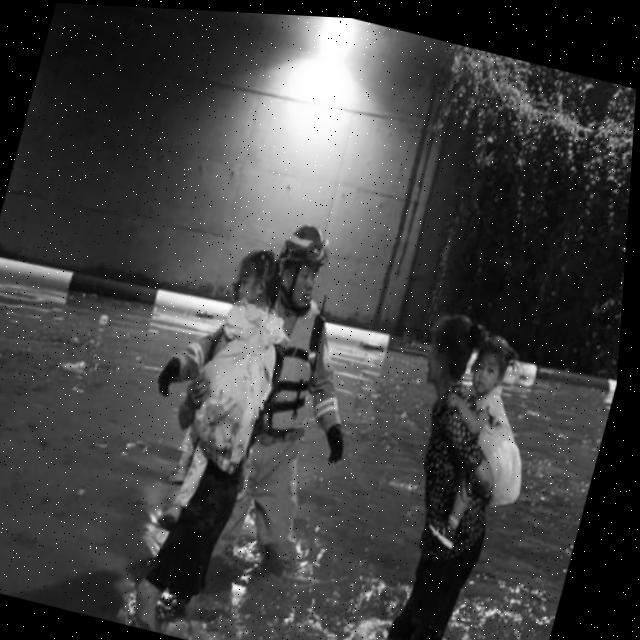civilian: (335, 299, 544, 640), (119, 266, 307, 640), (146, 234, 316, 549), (407, 316, 564, 570)
rescuer: (101, 188, 416, 597)
